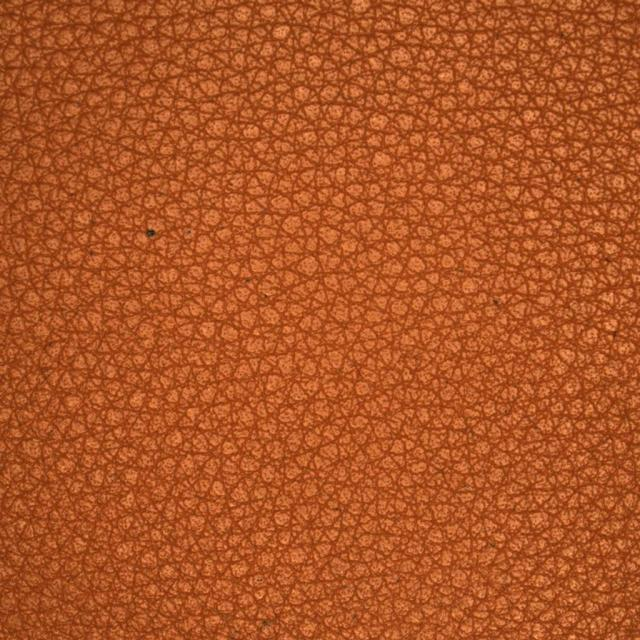Hole: (81, 171, 227, 302)
